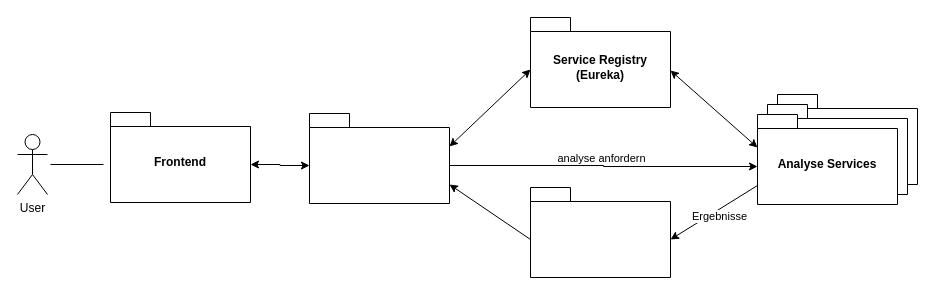
This 935x295 diagram has some shape labels left out. The shapes that lost their labels are listed below. From the top down, each one's box as (x1, y1, x2, y2) in pixels, then its label:
(308, 112, 450, 204): BFF Service
(530, 186, 670, 278): Kafka Cluster
